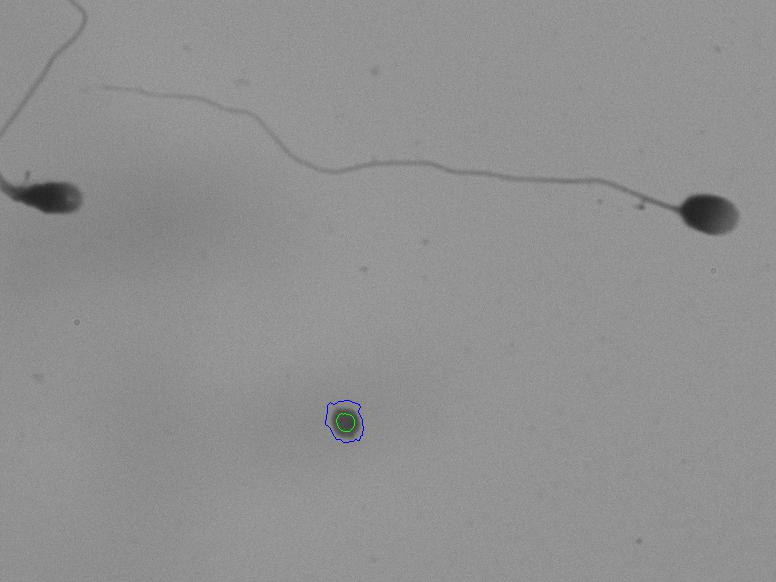Normal: (141, 63, 755, 274)
